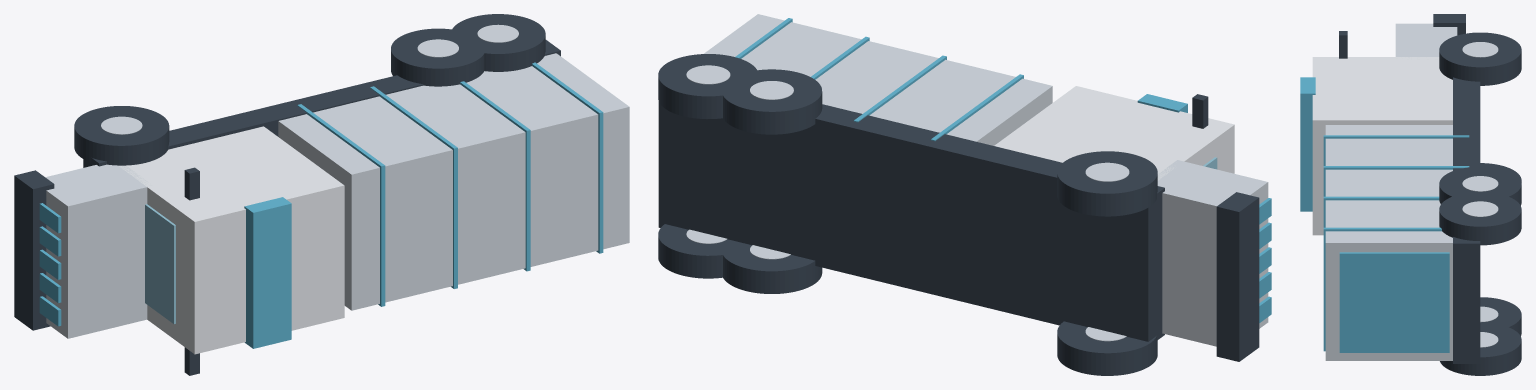
Rendered from truck.glb.
3 renders of one model, left to right at view 1: azimuth 30°, elevation 25°; view 2: azimuth 150°, elevation 25°; view 3: azimuth 270°, elevation 25°, orthographic. The views are drawn at different scales.
Parts seen in each view (by area): view 1: cargo_body, cab, hood, roof, chassis, front_bumper, wheel_1, wheel_3, wheel_5, side_window, cargo_rib, cargo_rib_3 (+5 smaller); view 2: chassis, cargo_body, cab, hood, front_bumper, wheel_1, wheel_3, wheel_5, wheel, wheel_2, wheel_4, hub_1 (+6 smaller); view 3: cargo_body, rear_panel, cab, chassis, wheel_1, wheel_5, wheel_3, wheel_4, roof, hood, wheel_2, cargo_rib_3 (+10 smaller).
Boxes of the visible parts, x1,y1,x2,y2 form: cargo_body: (278, 53, 629, 310); cab: (119, 126, 344, 354); hood: (45, 164, 151, 338); roof: (244, 197, 291, 348); chassis: (83, 40, 560, 167); front_bumper: (14, 170, 54, 330); wheel_1: (74, 106, 169, 165); wheel_3: (391, 28, 485, 86); wheel_5: (452, 14, 545, 71); side_window: (145, 204, 175, 323); cargo_rib: (297, 104, 385, 306); cargo_rib_3: (532, 62, 603, 253); chassis: (658, 101, 1164, 341); cargo_body: (704, 14, 1052, 145); cab: (994, 86, 1234, 180); hood: (1157, 160, 1268, 346); front_bumper: (1216, 192, 1259, 361); wheel_1: (1057, 151, 1157, 216); wheel_3: (721, 69, 822, 134); wheel_5: (658, 54, 757, 118); wheel: (1057, 321, 1157, 375); wheel_2: (721, 240, 822, 293); wheel_4: (658, 224, 747, 278); hub_1: (1085, 162, 1129, 181); cargo_body: (1325, 125, 1452, 360); rear_panel: (1339, 252, 1449, 352); cab: (1312, 57, 1452, 235); chassis: (1453, 77, 1480, 363); wheel_1: (1439, 32, 1521, 85); wheel_5: (1439, 192, 1521, 245); wheel_3: (1439, 166, 1521, 205); wheel_4: (1440, 324, 1521, 375); roof: (1300, 77, 1315, 211); hood: (1395, 23, 1457, 57); wheel_2: (1480, 297, 1521, 336); cargo_rib_3: (1323, 227, 1441, 351).
Size of the model in its own units: 6.31 by 2.26 by 2.58.
